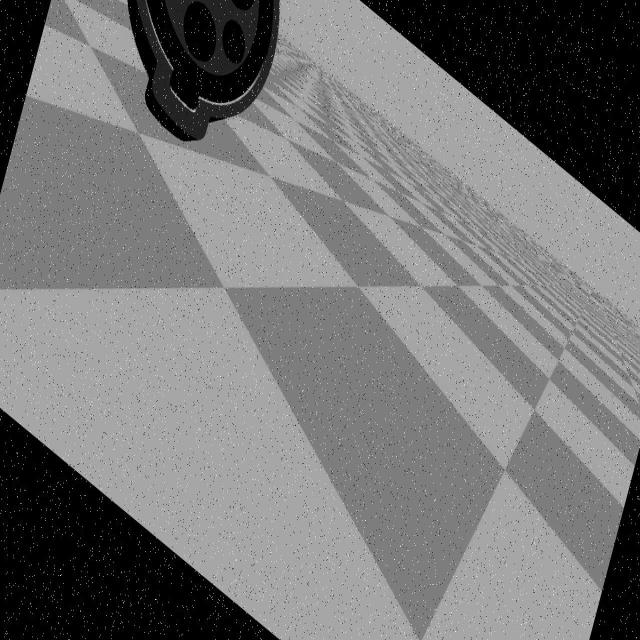Type 1: (118, 0, 297, 169)
